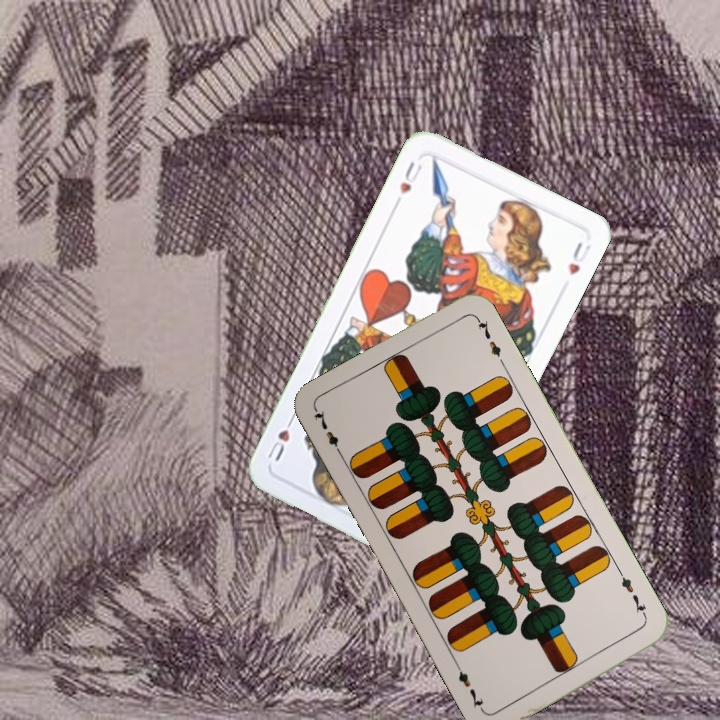E7: (309, 406, 346, 460), (615, 567, 650, 622)
HU: (395, 156, 425, 197)
